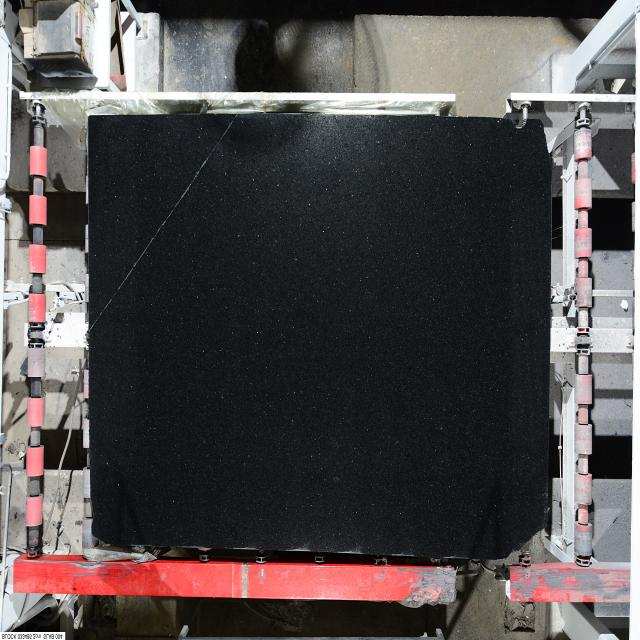chapa: (89, 113, 551, 558)
veio: (508, 110, 528, 134)
